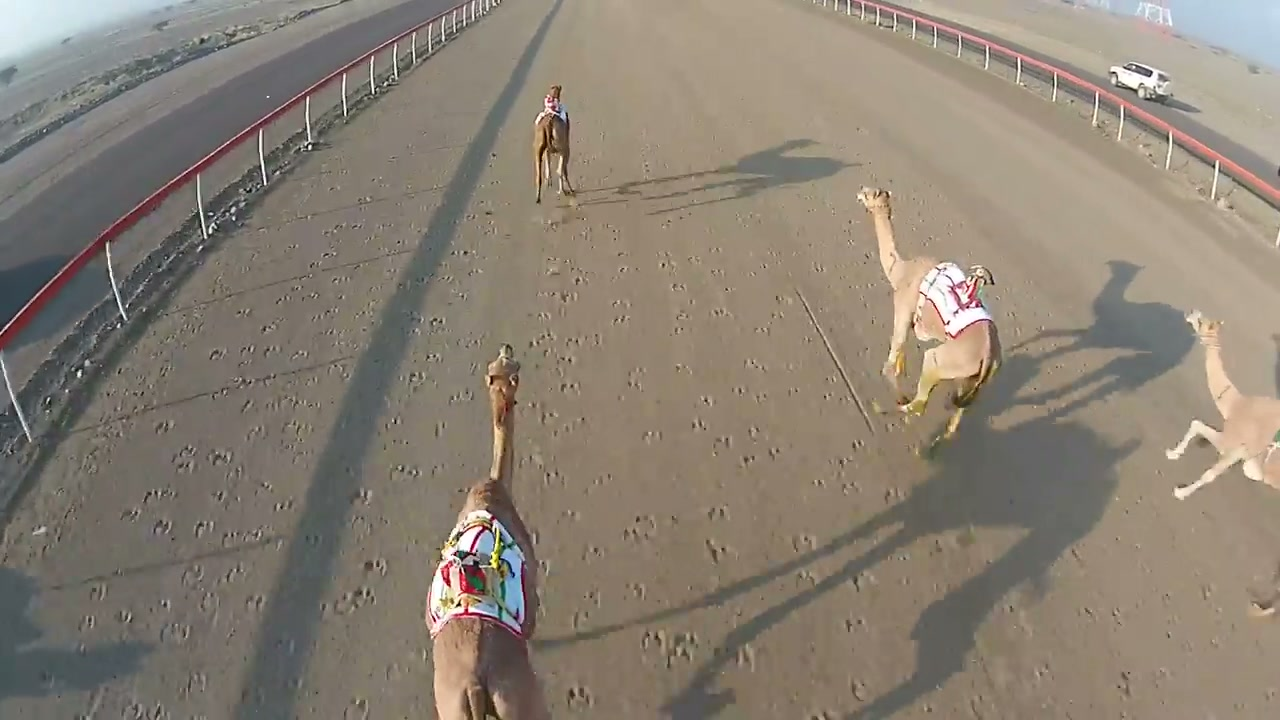animal_footprint: (49, 155, 384, 691), (308, 200, 493, 640), (633, 233, 795, 664), (517, 206, 615, 709), (797, 446, 917, 709)
